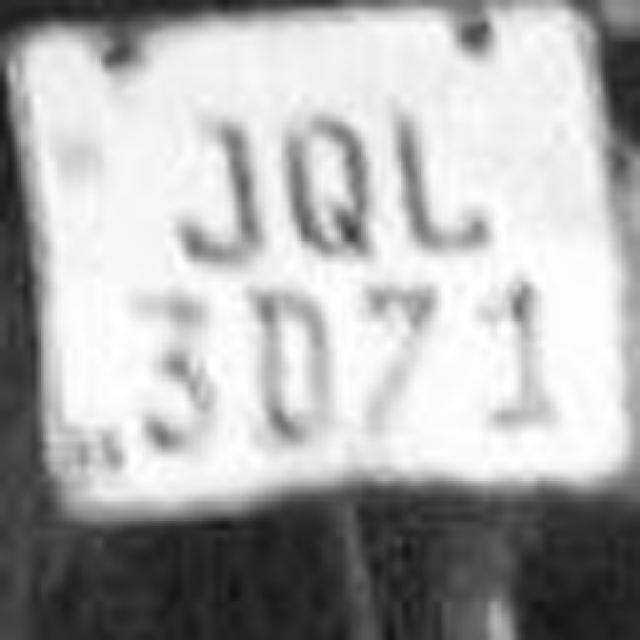0: (220, 264, 352, 456)
1: (460, 252, 568, 456)
3: (100, 264, 235, 471)
7: (340, 264, 455, 448)
J: (140, 100, 285, 272), (388, 76, 512, 276)
Q: (280, 92, 400, 268)
